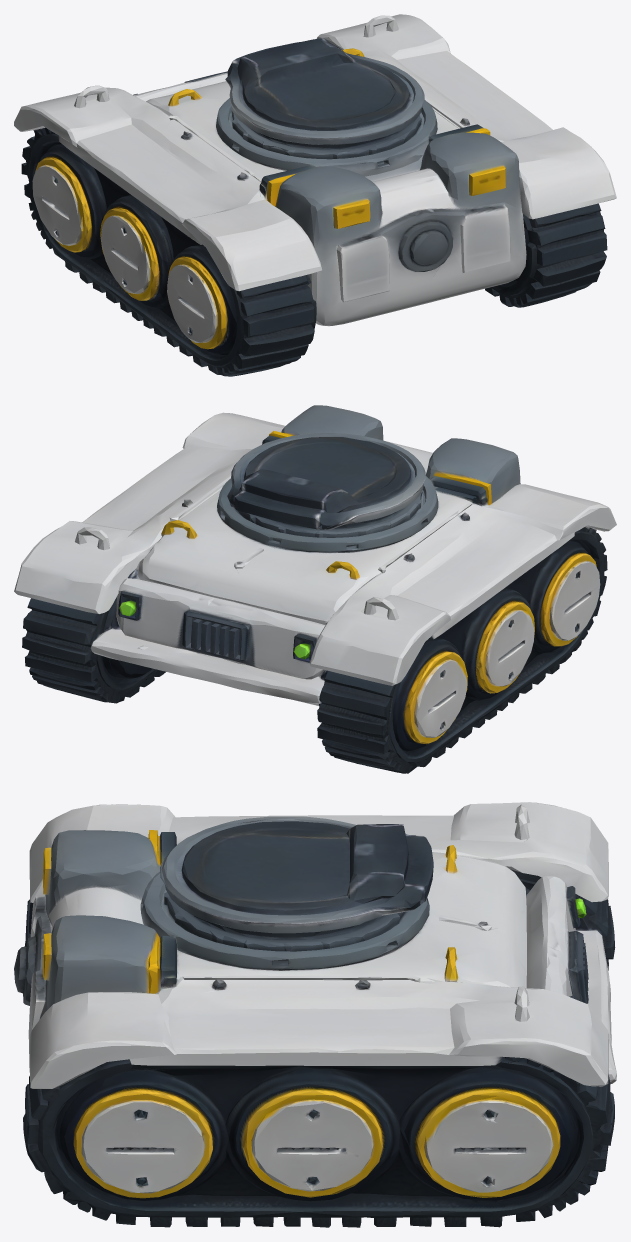
File: light_tracks.glb
3 renders of one model, top to bottom at view 1: azimuth 30°, elevation 25°; view 2: azimuth 150°, elevation 25°; view 3: azimuth 270°, elevation 25°, orthographic. The views are drawn at different scales.
Visible parts, largest first — view 1: Hull, RightTracks, LeftTracks; view 2: Hull, RightTracks, LeftTracks; view 3: LeftTracks, Hull, RightTracks.
Part boxes in pixels (x1=…): Hull: x1=133, y1=38, x2=526, y2=326; RightTracks: x1=14, y1=85, x2=321, y2=376; LeftTracks: x1=316, y1=14, x2=616, y2=307; Hull: x1=90, y1=405, x2=520, y2=705; RightTracks: x1=309, y1=484, x2=616, y2=773; LeftTracks: x1=14, y1=412, x2=285, y2=703; LeftTracks: x1=23, y1=975, x2=614, y2=1227; Hull: x1=14, y1=816, x2=616, y2=1084; RightTracks: x1=24, y1=802, x2=615, y2=970.
Size of the model in its own units: 1.65 by 0.847 by 1.72.
3 materials, 3 textured.
